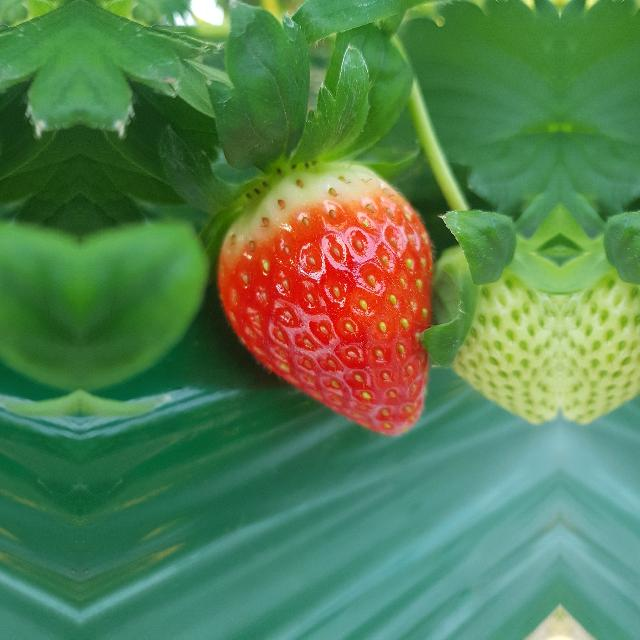Health_100: (214, 161, 433, 437)
Health_25: (435, 220, 557, 434), (563, 219, 640, 434)
